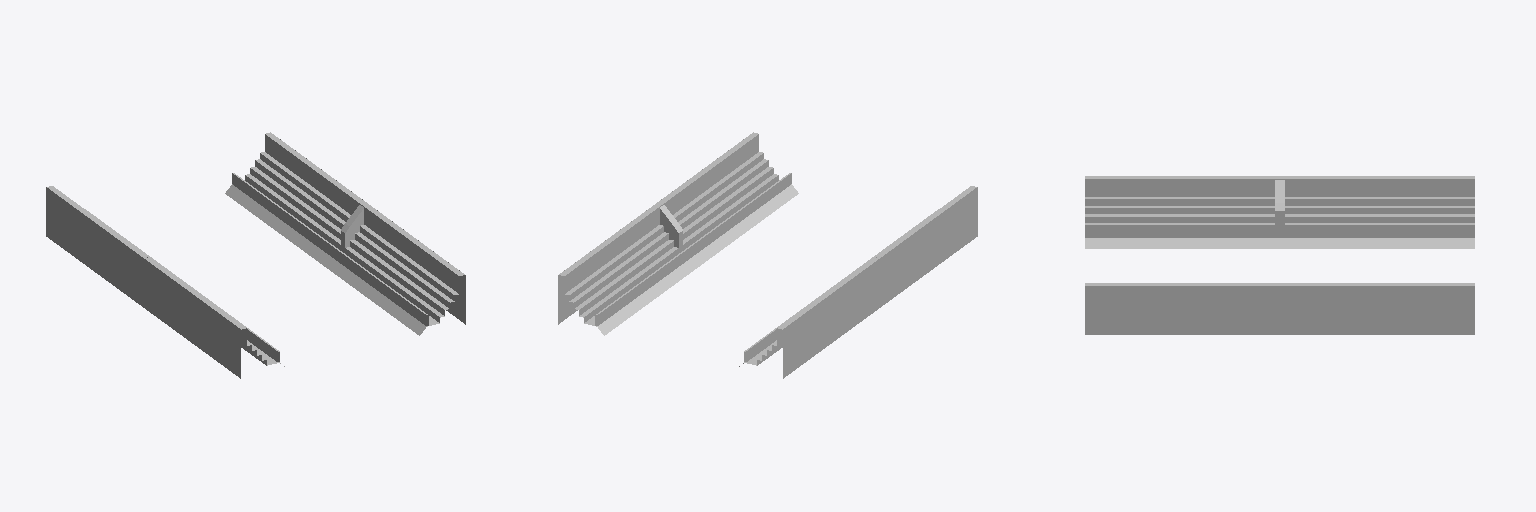
Rendered from benches.obj.
The picture shows the model from 3 angles: view 1: azimuth 30°, elevation 25°; view 2: azimuth 150°, elevation 25°; view 3: azimuth 270°, elevation 25°; orthographic projection.
Parts seen in each view (by area): view 1: benches_Cube.001; view 2: benches_Cube.001; view 3: benches_Cube.001.
Boxes of the visible parts, <box> form: benches_Cube.001: <box>46,132,465,378</box>; benches_Cube.001: <box>558,132,977,378</box>; benches_Cube.001: <box>1085,176,1474,334</box>.
Size of the model in its own units: 28.85 by 6.16 by 43.41.